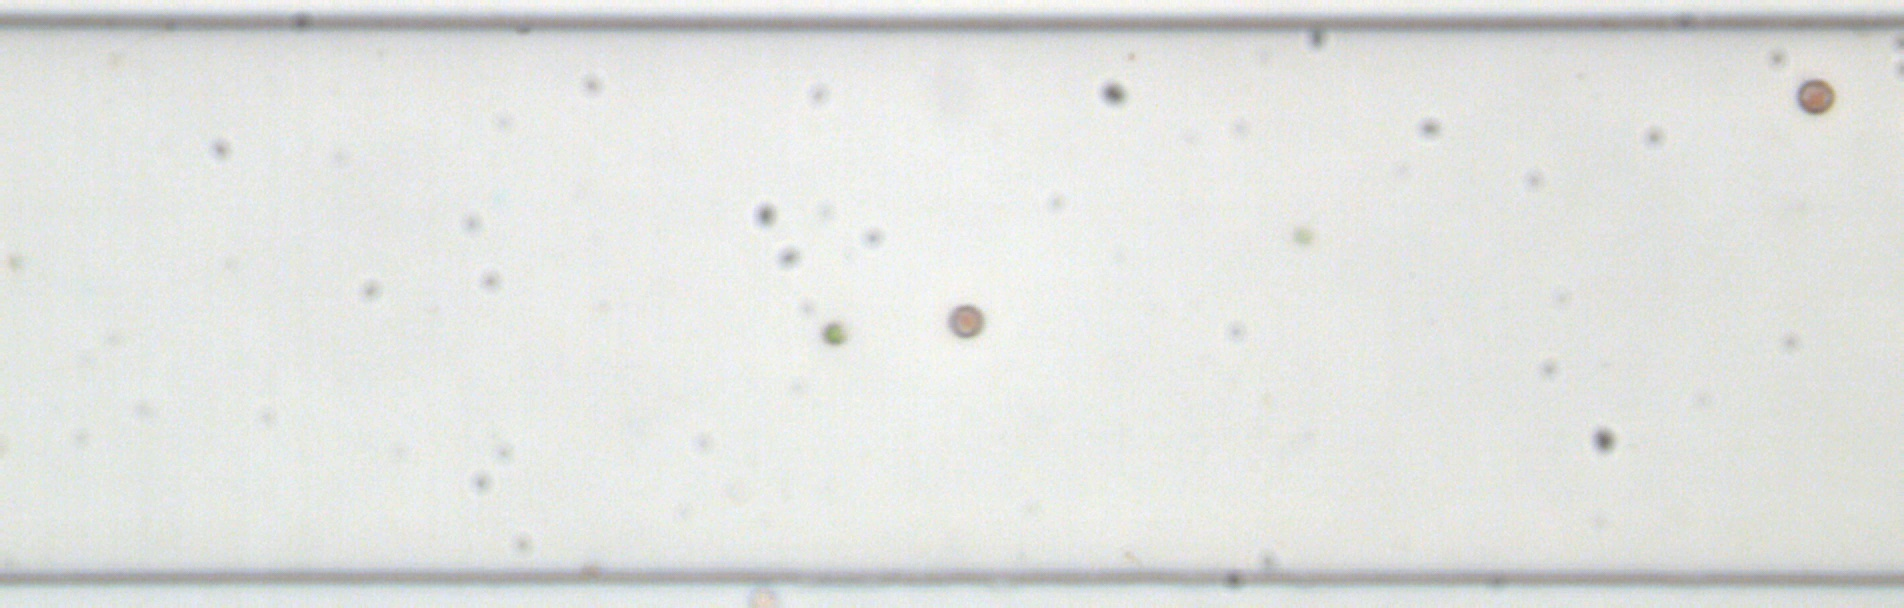Chlorella: (818, 320, 848, 348), (1291, 225, 1314, 245)
Porphyridium: (1793, 76, 1837, 114), (946, 303, 984, 339)
